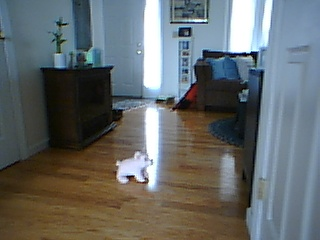piggy: (114, 147, 154, 184)
